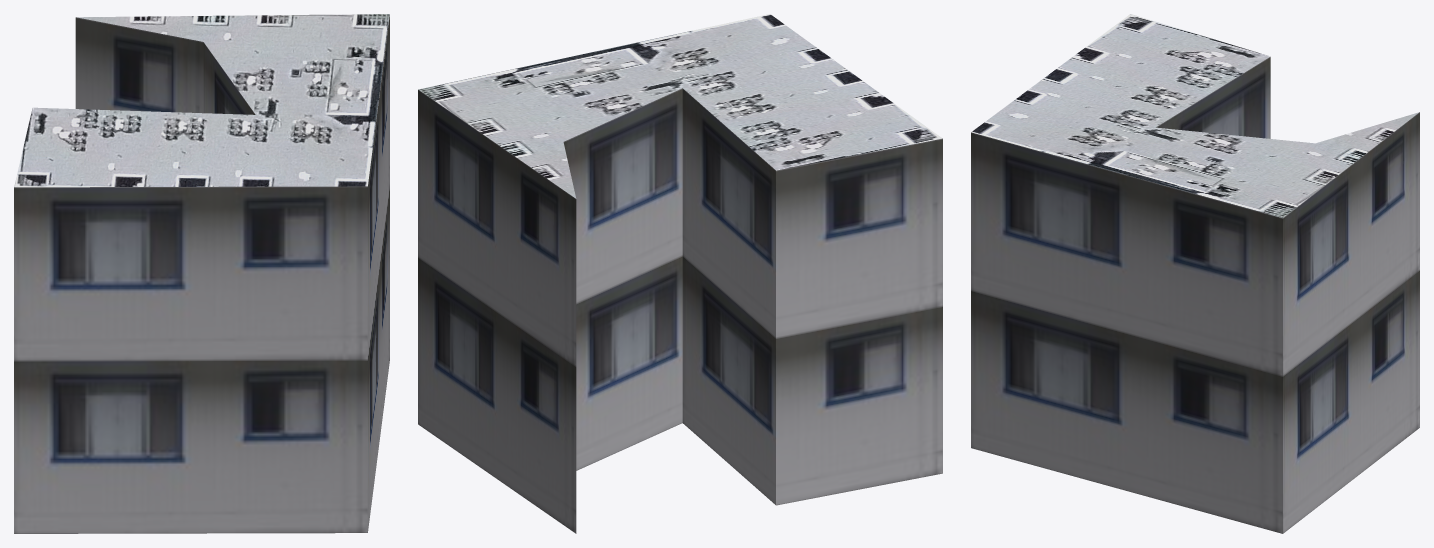
The model's file is ResTex__3896.fbx.
The picture shows the model from 3 angles, left to right: view 1: azimuth 30°, elevation 25°; view 2: azimuth 150°, elevation 25°; view 3: azimuth 270°, elevation 25°; orthographic projection. The views are drawn at different scales.
Parts seen in each view (by area): view 1: CityEngineMaterial_9_m, CityEngineMaterial_2_m; view 2: CityEngineMaterial_9_m, CityEngineMaterial_2_m; view 3: CityEngineMaterial_9_m, CityEngineMaterial_2_m.
Part boxes in pixels (x1,y1,x2,y2): CityEngineMaterial_9_m: [14, 15, 389, 533]; CityEngineMaterial_2_m: [14, 14, 389, 187]; CityEngineMaterial_9_m: [418, 88, 942, 533]; CityEngineMaterial_2_m: [418, 14, 942, 198]; CityEngineMaterial_9_m: [971, 57, 1419, 533]; CityEngineMaterial_2_m: [971, 14, 1419, 217].
Bounding box in the file's own units: 8.32 × 6 × 7.73.
2 materials, 2 textured.
